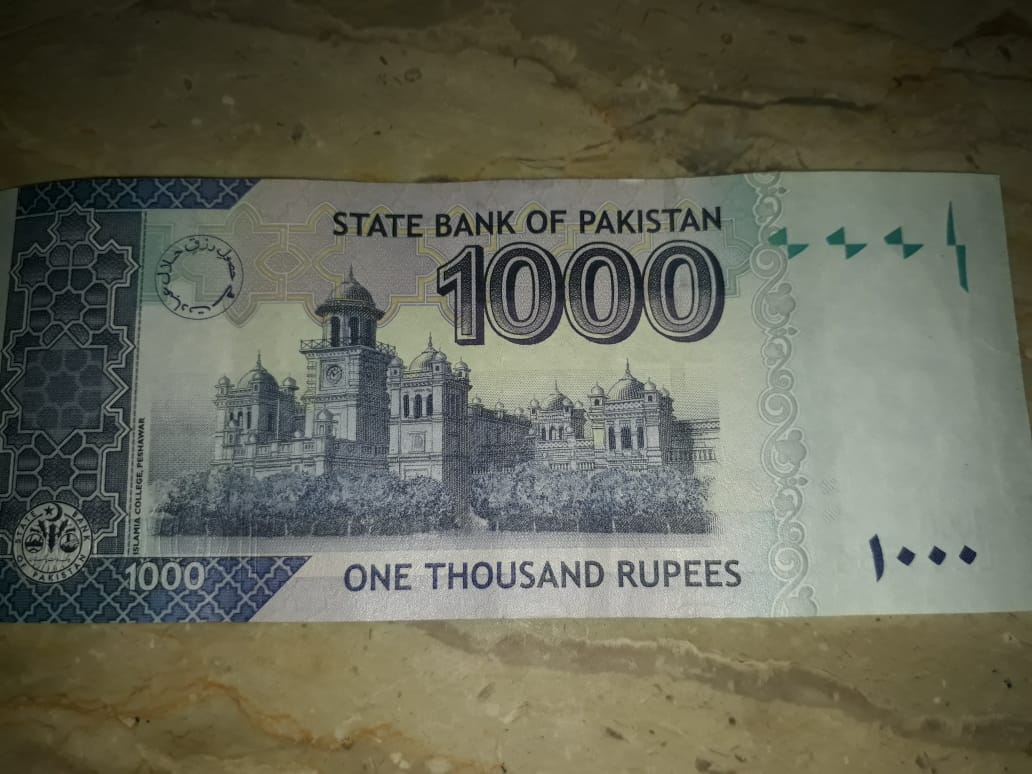1000 rupee: (10, 158, 1020, 660)
